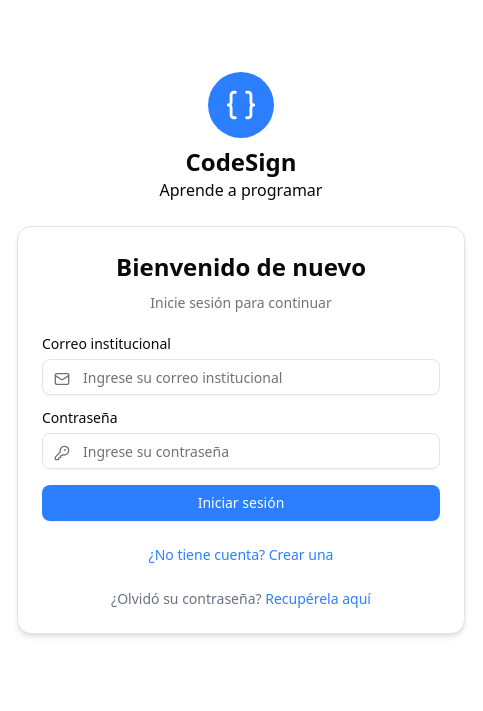
AuthLayout › toggles back to login form
# Switch to signup
Click the button with test id "auth-mode-toggle". click: (241, 555)
box: [133,537,349,573]
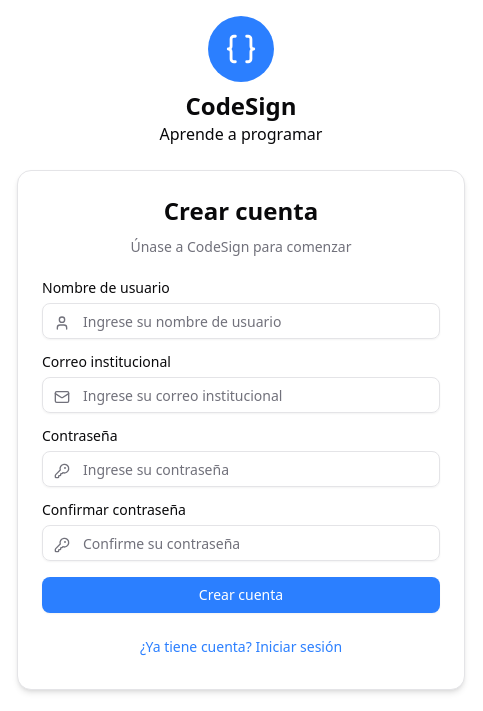
Expected: the form with test id "signup-form" is shown, [42,281,440,613]
# Switch back to login
Click the button with test id "auth-mode-toggle". click: (241, 647)
box: [124,629,358,665]
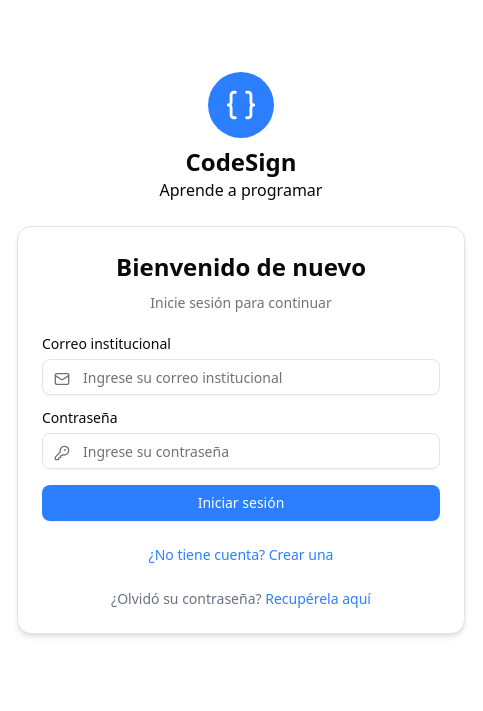
Expected: the form with test id "login-form" is shown, [42,337,440,521]
Expected: the text "Bienvenido de nuevo" is shown, [116,250,366,283]
